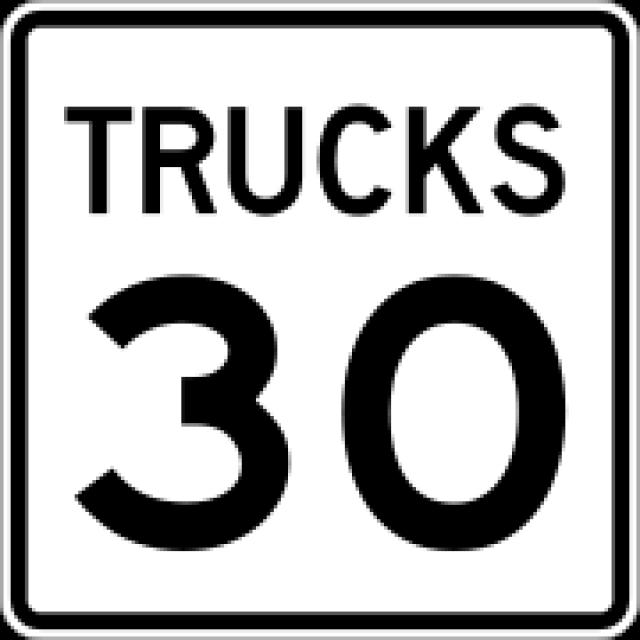Speed Limit -30-: (55, 245, 583, 576)
